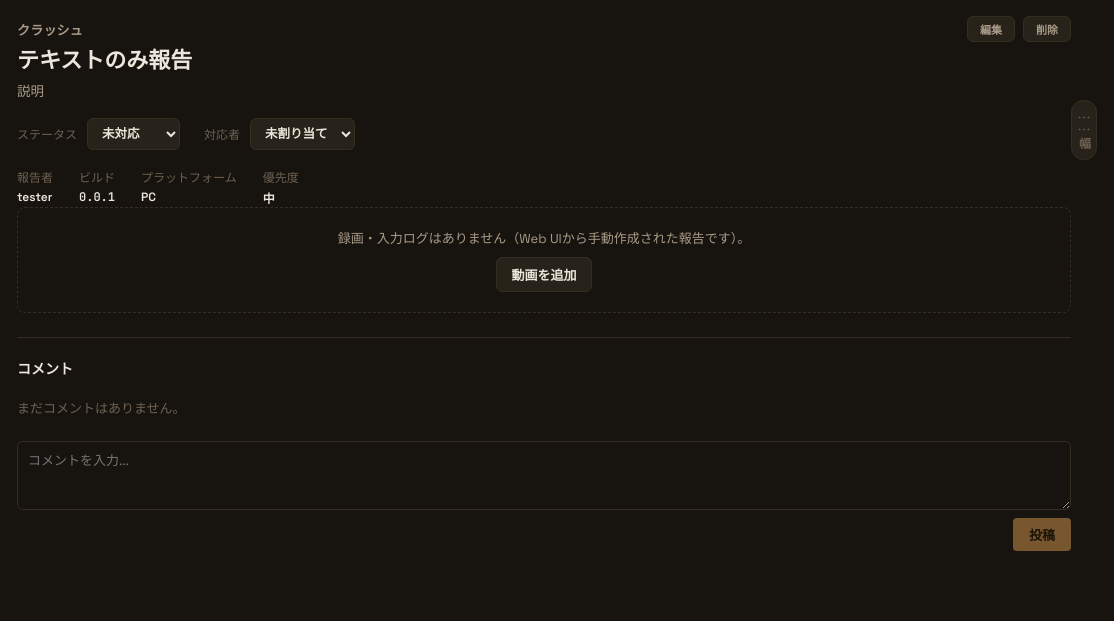
Test: BugDetailPage - comment thread › posts a new comment and appends it to the list
Expected: the text "まだコメントはありません。" is shown, [17,400,186,417]
In the text box with placeholder "コメントを入力...": (544, 476) [17,441,1071,510], type "コメント本文"
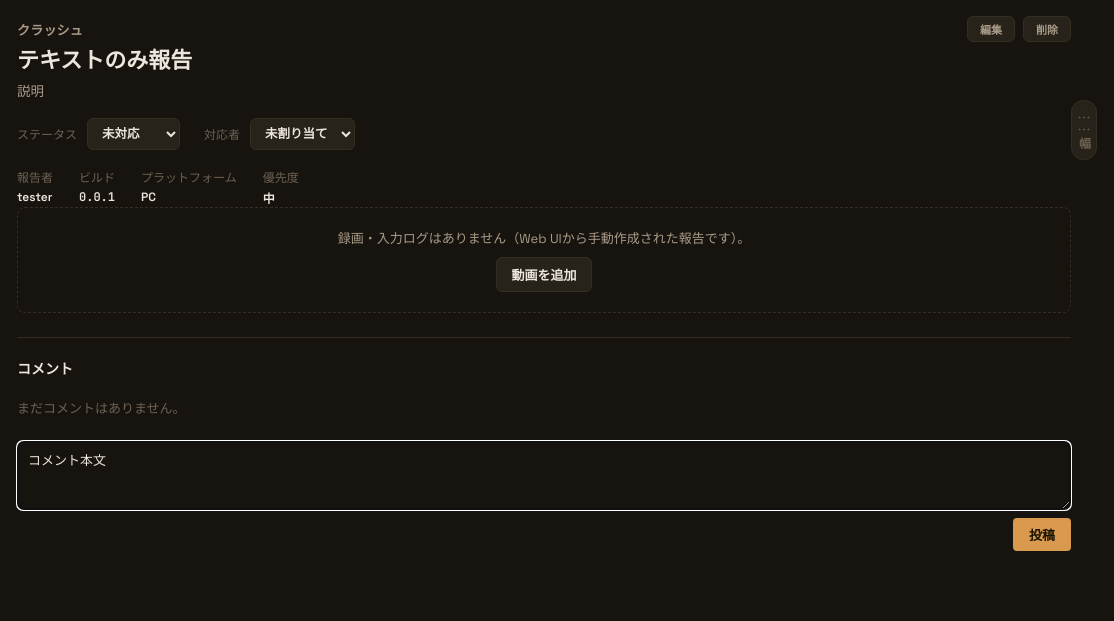
Click the button "投稿": (1042, 535) [1013,518,1071,551]
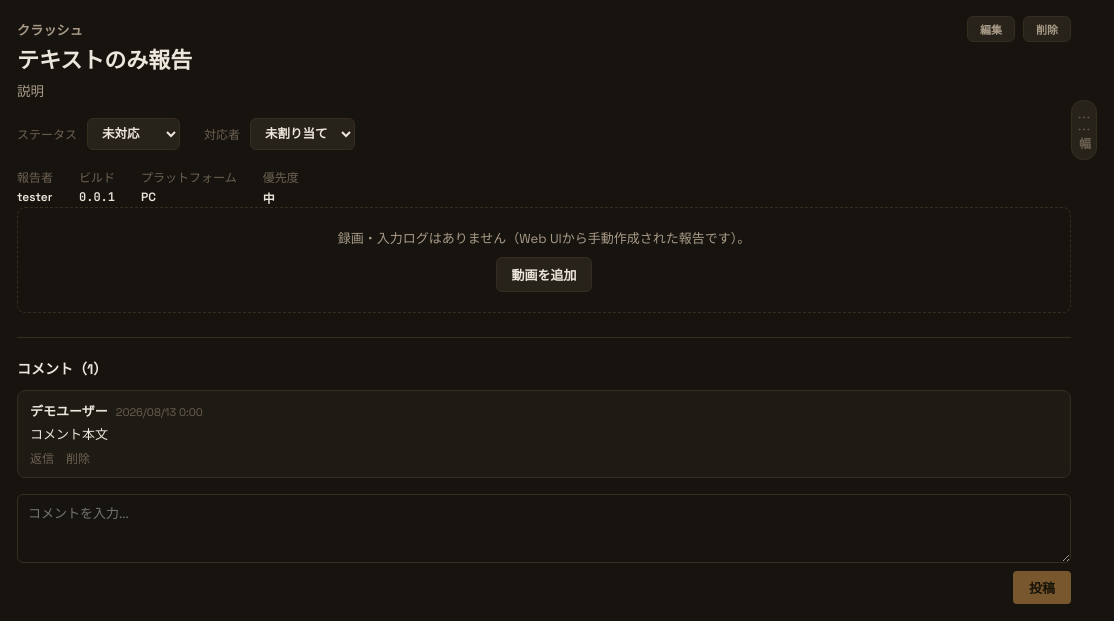
Now the text "コメント本文" is shown, box [30,426,108,443]
